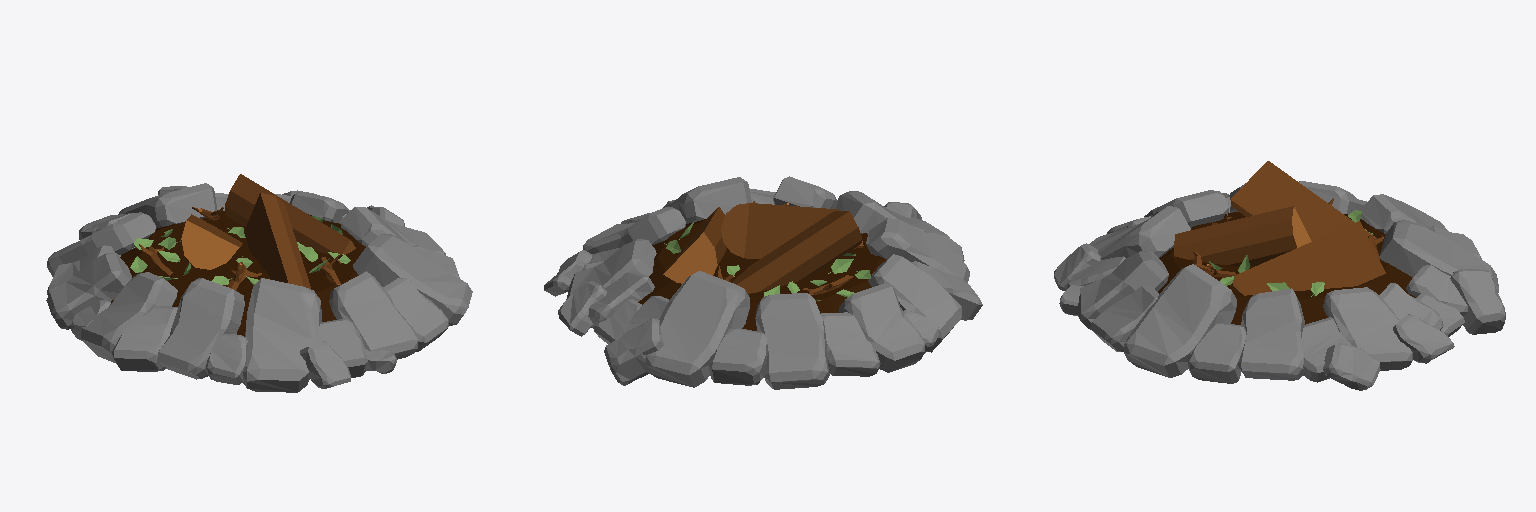
3 renders of one model, left to right at view 1: azimuth 30°, elevation 25°; view 2: azimuth 150°, elevation 25°; view 3: azimuth 270°, elevation 25°, orthographic.
Parts seen in each view (by area): view 1: rocks_meshId1_name, base_meshId0_name, wood_03_meshId22_name, wood_02_meshId21_name, wood_01_meshId20_name; view 2: rocks_meshId1_name, wood_01_meshId20_name, base_meshId0_name, wood_03_meshId22_name, wood_02_meshId21_name; view 3: rocks_meshId1_name, wood_02_meshId21_name, wood_03_meshId22_name, wood_01_meshId20_name, base_meshId0_name.
Part boxes in pixels (x1,y1,x2,y2): rocks_meshId1_name: (46,183,472,392); base_meshId0_name: (111,211,365,336); wood_03_meshId22_name: (244,193,310,288); wood_02_meshId21_name: (225,174,355,254); wood_01_meshId20_name: (181,214,242,269); rocks_meshId1_name: (544,176,982,389); wood_01_meshId20_name: (732,211,862,293); base_meshId0_name: (638,219,886,330); wood_03_meshId22_name: (721,203,838,258); wood_02_meshId21_name: (663,207,726,283); rocks_meshId1_name: (1054,181,1505,390); wood_02_meshId21_name: (1233,221,1385,295); wood_03_meshId22_name: (1173,206,1311,265); wood_01_meshId20_name: (1231,161,1376,245); base_meshId0_name: (1158,212,1415,324).
Size of the model in its own units: 4.38 by 1.37 by 4.78.
1 materials, 1 textured.